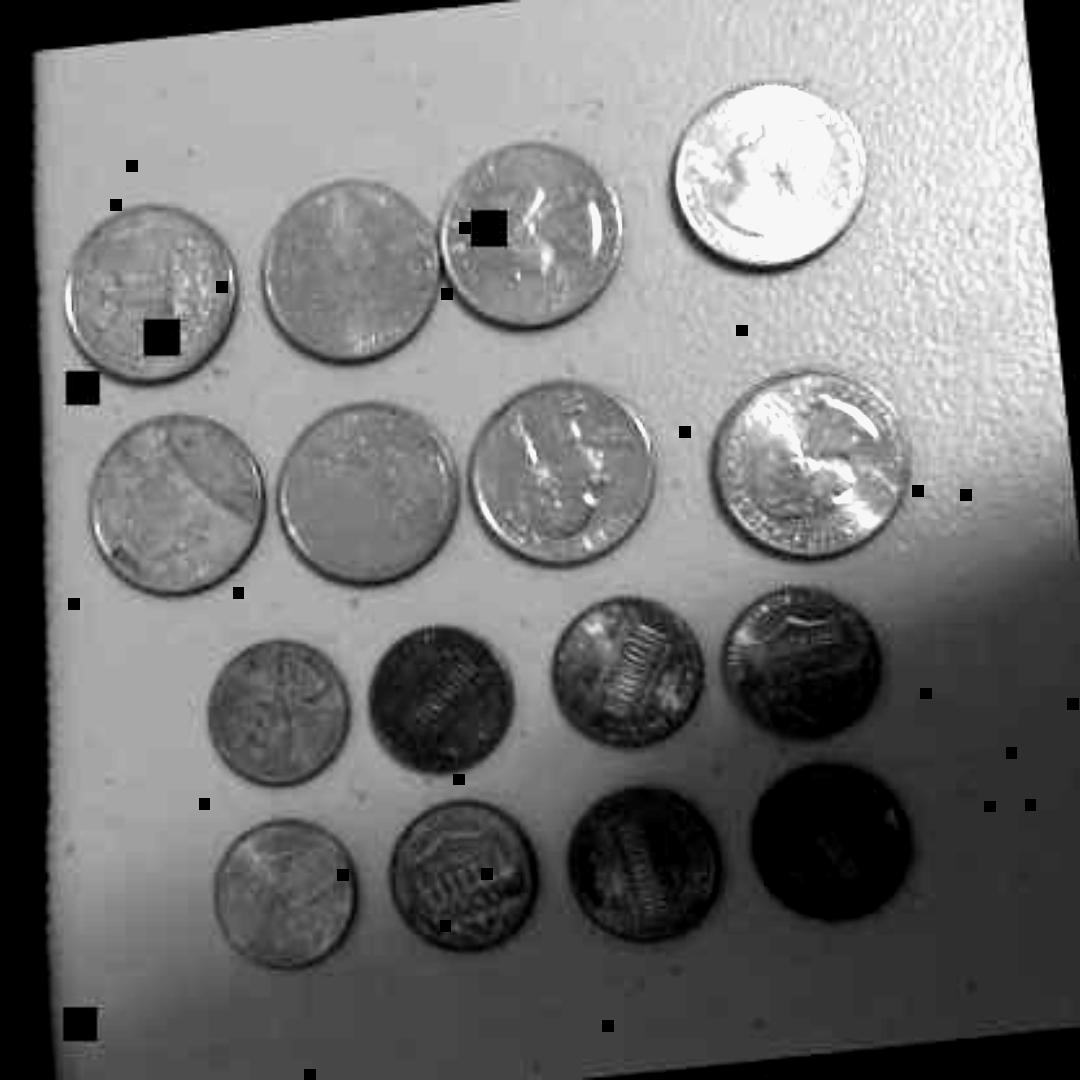Penny: (738, 745, 928, 939), (556, 780, 736, 956), (716, 576, 896, 750), (379, 791, 552, 972), (542, 582, 720, 756), (204, 813, 374, 979), (362, 612, 526, 784), (206, 625, 360, 793)
Quarter: (664, 65, 886, 293), (701, 350, 929, 572), (434, 108, 640, 338), (268, 388, 480, 603), (249, 160, 456, 374), (462, 369, 676, 576), (53, 196, 258, 394), (76, 402, 274, 606)
